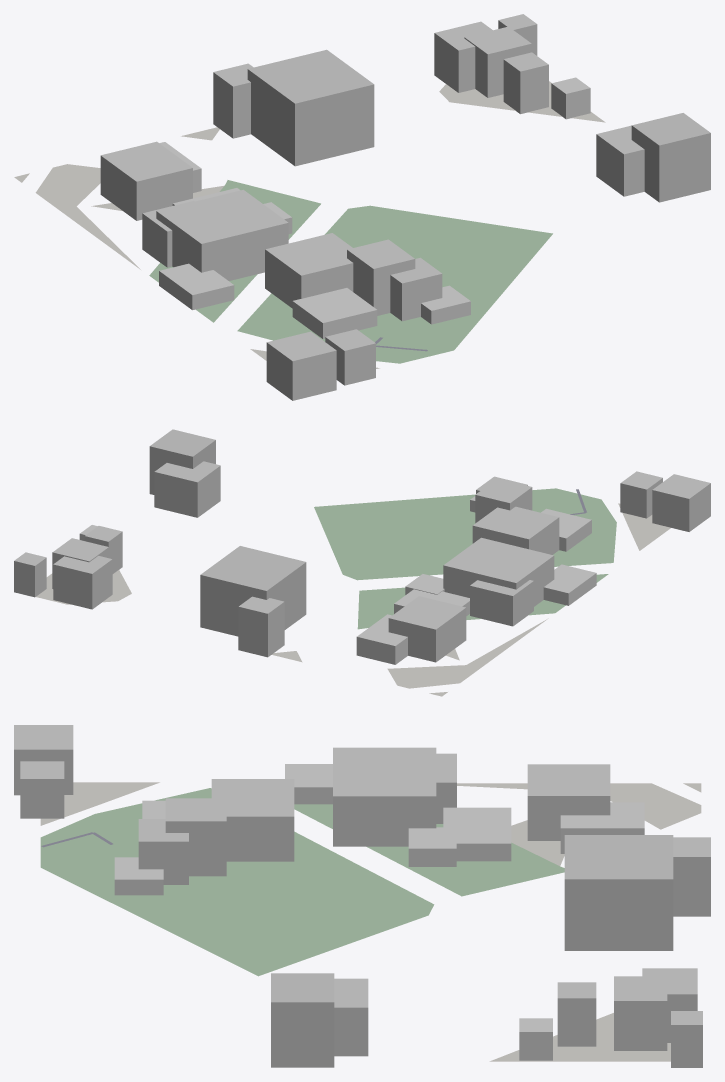
File: 132_107_mid.glb
3 renders of one model, top to bottom at view 1: azimuth 30°, elevation 25°; view 2: azimuth 150°, elevation 25°; view 3: azimuth 270°, elevation 25°, orthographic. The views are drawn at different scales.
Size of the model in its own units: 532 by 60.38 by 528.
